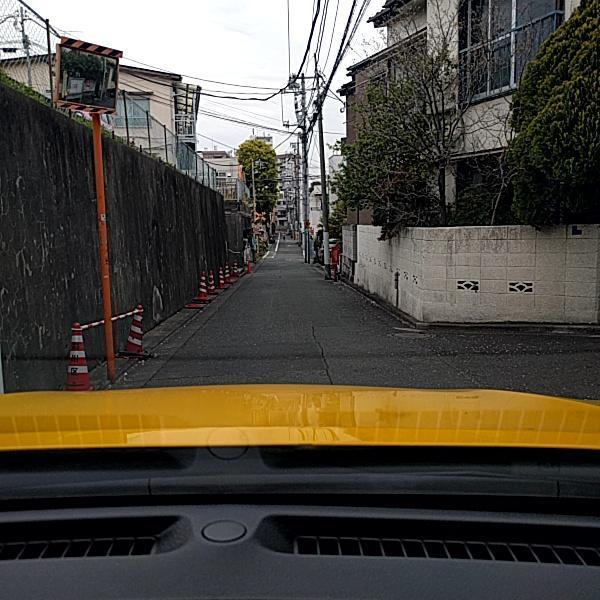D00: (306, 315, 337, 386)
